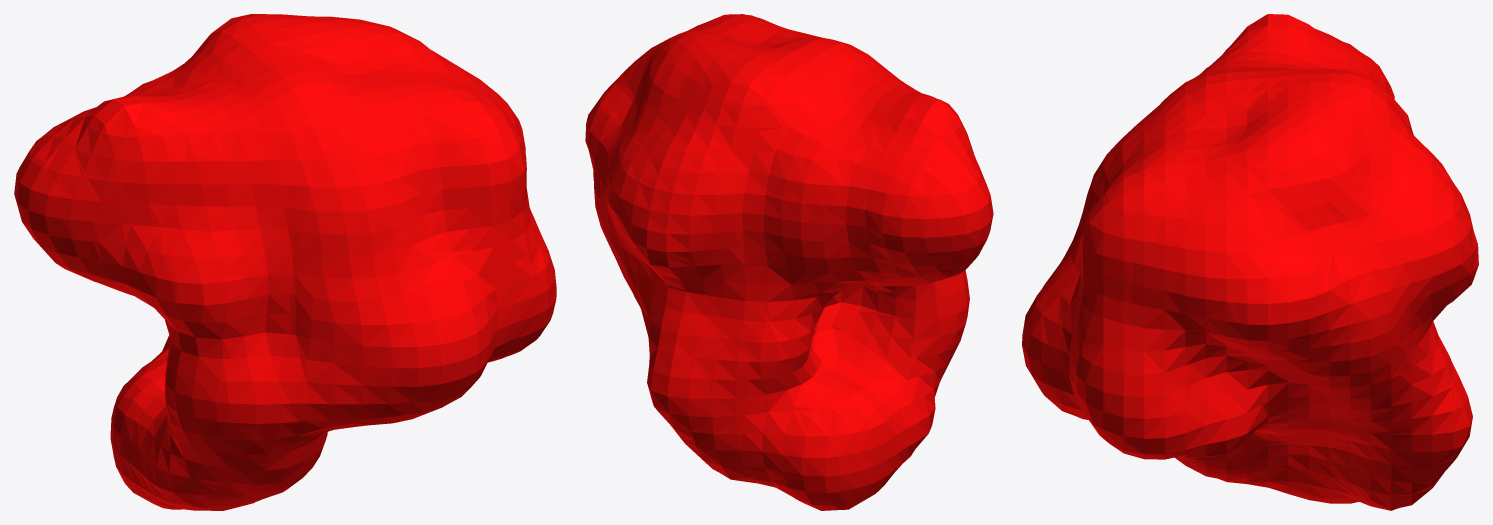
Rendered from btuR_coarse.dae.
The picture shows the model from 3 angles, left to right: view 1: azimuth 30°, elevation 25°; view 2: azimuth 150°, elevation 25°; view 3: azimuth 270°, elevation 25°; orthographic projection. The views are drawn at different scales.
Parts seen in each view (by area): view 1: btuR; view 2: btuR; view 3: btuR.
Boxes of the visible parts, bbox=[...] form: btuR: bbox=[14, 14, 556, 510]; btuR: bbox=[585, 14, 993, 510]; btuR: bbox=[1022, 14, 1478, 510].
Size of the model in its own units: 48.77 by 46.78 by 41.56.
